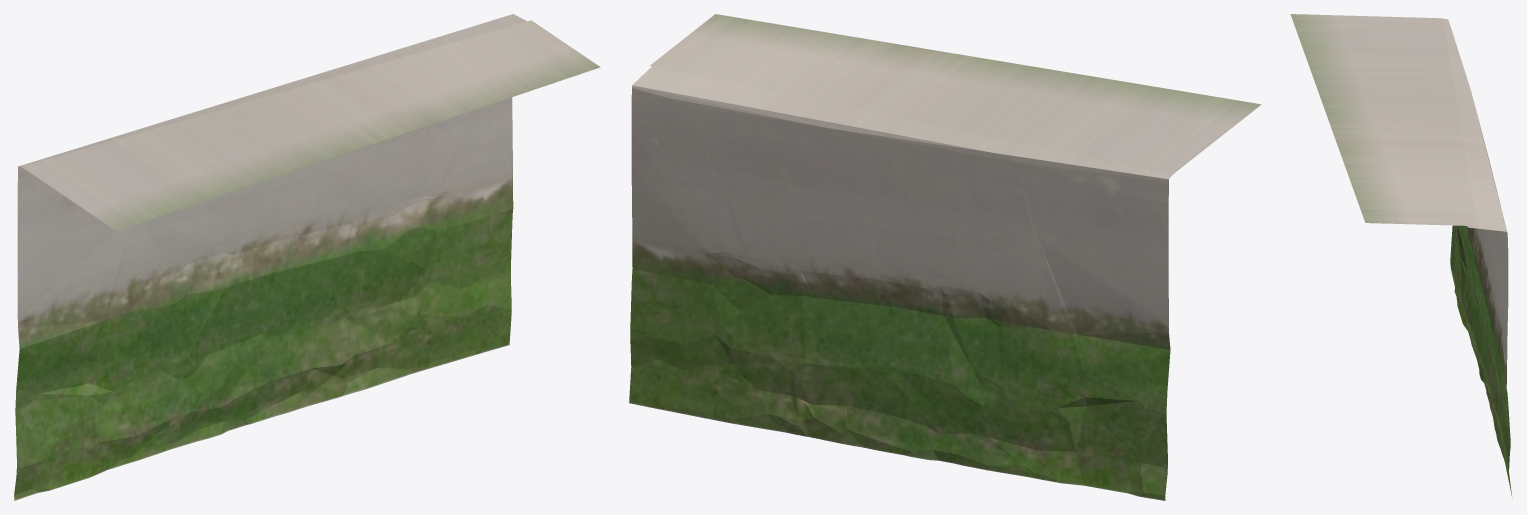
File: map_270_70.obj
3 views of the same model, side by side, from view 1: azimuth 30°, elevation 25°; view 2: azimuth 150°, elevation 25°; view 3: azimuth 270°, elevation 25° (orthographic). The views are drawn at different scales.
Parts seen in each view (by area): view 1: grp1; view 2: grp1; view 3: grp1.
Part boxes in pixels (x1,y1,x2,y2): grp1: (14,14,600,500); grp1: (629,14,1261,500); grp1: (1290,14,1512,497).
Bounding box in the file's own units: 10 × 6.2 × 4.49.
Materials: 1 (1 with a texture image).
